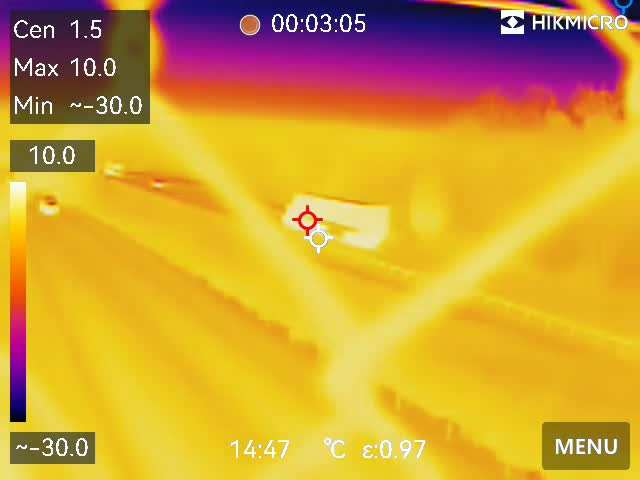heavyTruck: (273, 190, 390, 240)
vehicle: (39, 191, 59, 214)
